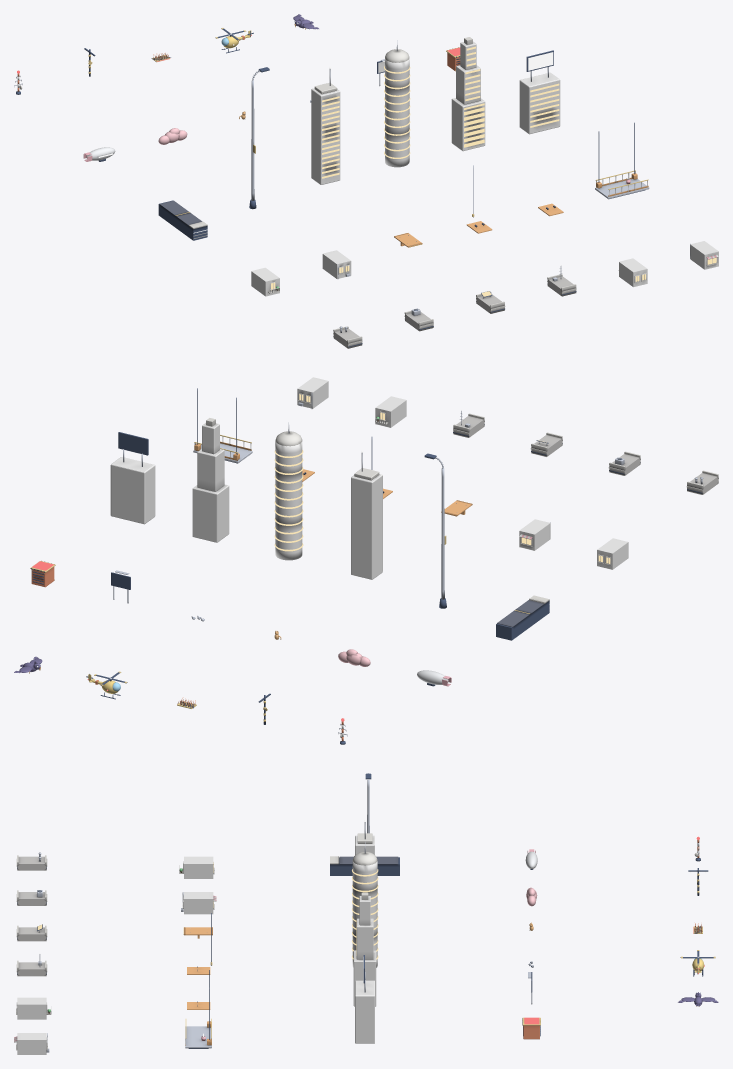
File: city.glb
The picture shows the model from 3 angles, top to bottom: view 1: azimuth 30°, elevation 25°; view 2: azimuth 150°, elevation 25°; view 3: azimuth 270°, elevation 25°; orthographic projection. The views are drawn at different scales.
Visible parts, largest first — view 1: Sky3, Sky2, Sky1, Sky4, CityBase, Gondola, FacadeD, FacadeC, FacadeB, FacadeA, CityEnd; view 2: Sky2, Sky3, Sky1, Sky4, CityBase, FacadeD, FacadeA, FacadeB, FacadeC, Gondola, CityEnd; view 3: Sky2, Sky3, Sky4, CityBase, FacadeD, FacadeA, FacadeC, FacadeB, Gondola, RoofD, RoofC, RoofA (+1 smaller).
Boxes of the visible parts, x1,y1,x2,y2 form: Sky3: (451, 37, 485, 151); Sky2: (384, 40, 410, 167); Sky1: (311, 66, 340, 184); Sky4: (519, 50, 560, 134); CityBase: (158, 200, 207, 240); Gondola: (595, 122, 649, 199); FacadeD: (322, 250, 351, 279); FacadeC: (251, 267, 279, 296); FacadeB: (690, 241, 718, 269); FacadeA: (618, 258, 647, 287); CityEnd: (249, 67, 269, 209); Sky2: (274, 422, 303, 560); Sky3: (192, 418, 229, 542); Sky1: (351, 450, 382, 579); Sky4: (110, 432, 155, 524); CityBase: (496, 595, 549, 640); FacadeD: (519, 519, 550, 550); FacadeA: (375, 396, 406, 427); FacadeB: (297, 377, 328, 408); FacadeC: (597, 538, 628, 569); Gondola: (193, 388, 252, 463); CityEnd: (424, 453, 446, 608); Sky2: (352, 842, 378, 967); Sky3: (353, 892, 376, 1006); Sky4: (355, 955, 374, 1043); CityBase: (330, 856, 399, 875); FacadeD: (181, 892, 216, 914); FacadeA: (16, 997, 51, 1019); FacadeC: (179, 856, 214, 878); FacadeB: (14, 1033, 49, 1054); Gondola: (185, 970, 211, 1048); RoofD: (16, 953, 47, 976); RoofC: (16, 924, 47, 941); RoofA: (16, 852, 47, 870).
Bounding box in the file's own units: 27.52 × 9.31 × 42.32.
